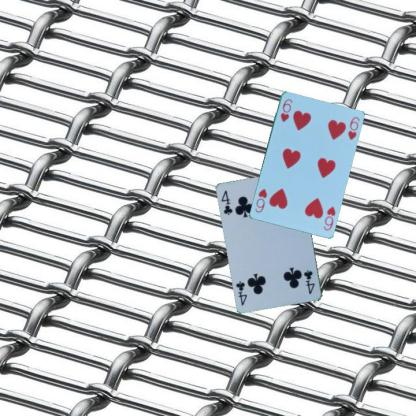4c: (219, 188, 234, 216), (302, 267, 316, 296)
6h: (321, 203, 337, 232), (278, 96, 293, 123)
